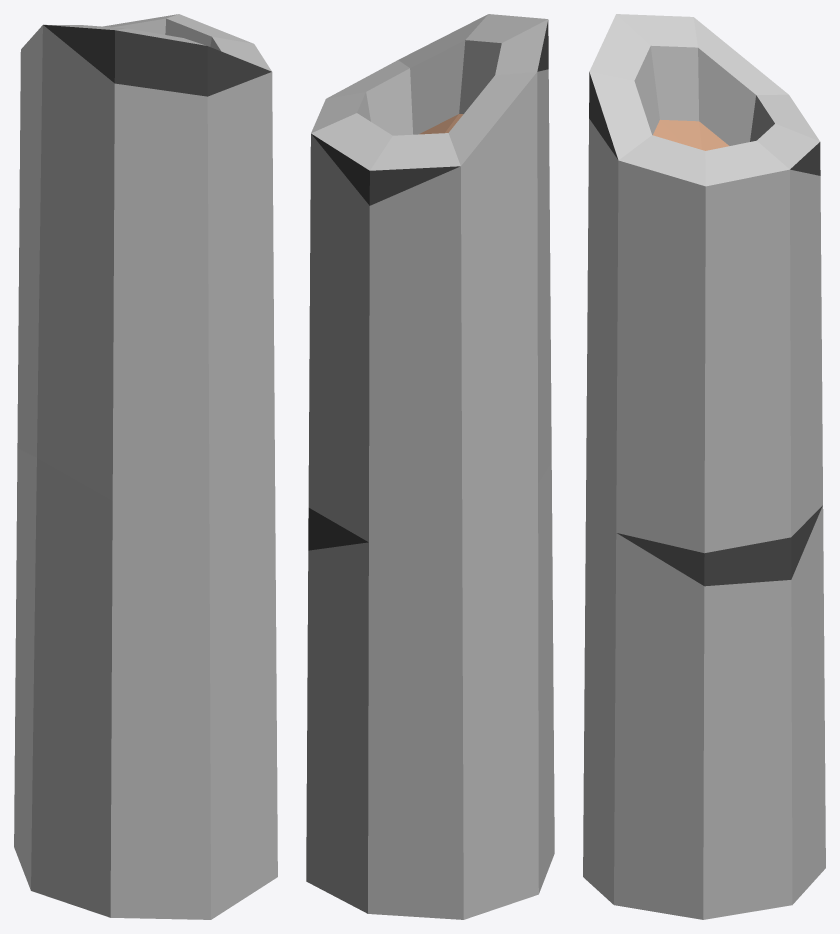
The model's file is mesh_stump_birch_03.fbx.
3 renders of one model, left to right at view 1: azimuth 30°, elevation 25°; view 2: azimuth 150°, elevation 25°; view 3: azimuth 270°, elevation 25°, orthographic. The views are drawn at different scales.
Visible parts, largest first — view 1: mesh_stump_birch_03; view 2: mesh_stump_birch_03; view 3: mesh_stump_birch_03.
Boxes of the visible parts, <box> form: mesh_stump_birch_03: <box>14,14,277,919</box>; mesh_stump_birch_03: <box>306,14,554,919</box>; mesh_stump_birch_03: <box>583,14,825,919</box>.
Bounding box in the file's own units: 0.1986 × 0.739 × 0.1966.
